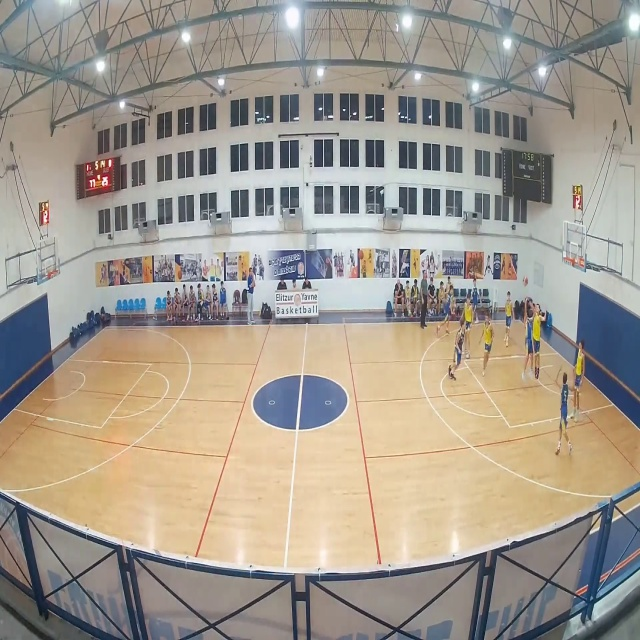Basketball: (522, 276, 528, 285)
